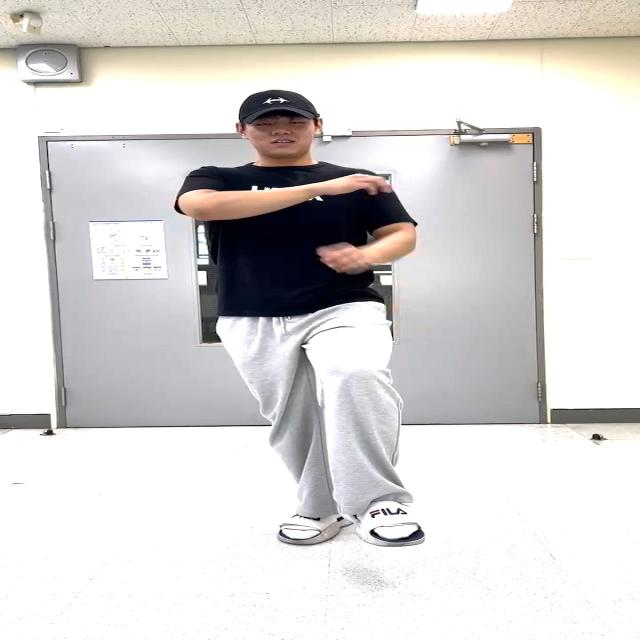leg: (298, 309, 469, 556)
